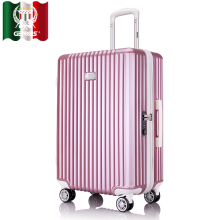luggage: (54, 4, 167, 212)
